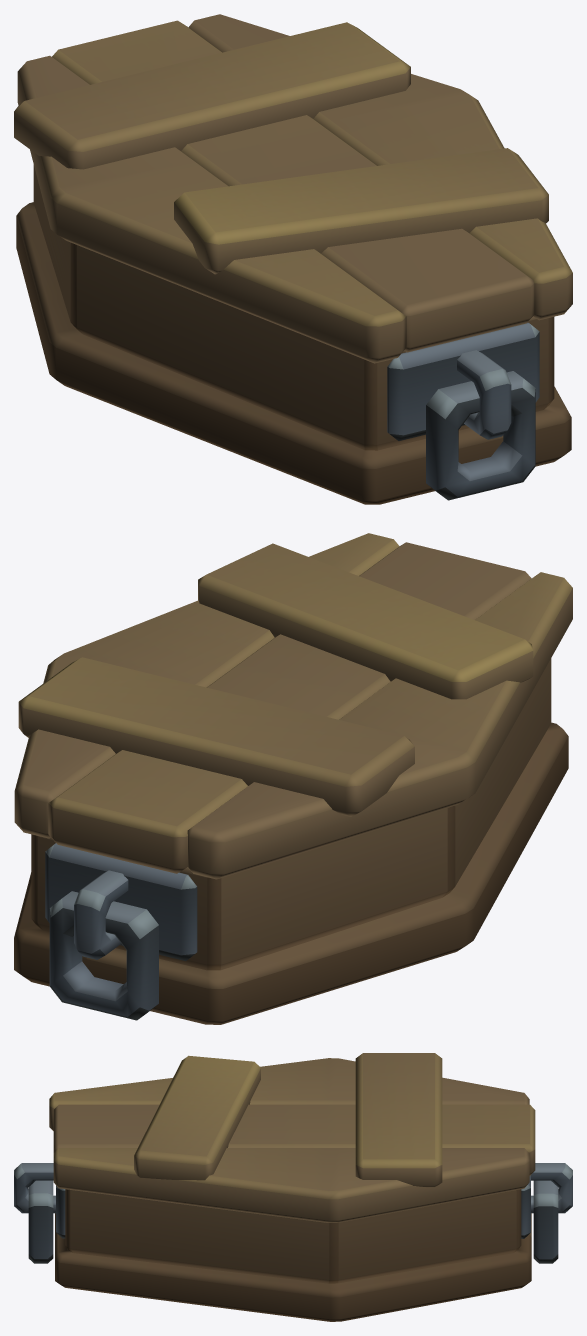
File: coffin.fbx
3 renders of one model, top to bottom at view 1: azimuth 30°, elevation 25°; view 2: azimuth 150°, elevation 25°; view 3: azimuth 270°, elevation 25°, orthographic. The views are drawn at different scales.
Visible parts, largest first — view 1: coffin_lid, coffin; view 2: coffin_lid, coffin; view 3: coffin_lid, coffin.
Boxes of the visible parts, box(x1,y1,x2,y2) form: coffin_lid: box(14, 14, 572, 363); coffin: box(16, 165, 571, 504); coffin_lid: box(14, 533, 572, 879); coffin: box(14, 658, 568, 1024); coffin_lid: box(49, 1053, 535, 1222); coffin: box(14, 1163, 572, 1321).
Size of the model in its own units: 140 by 69.61 by 238.
1 material, 1 textured.
